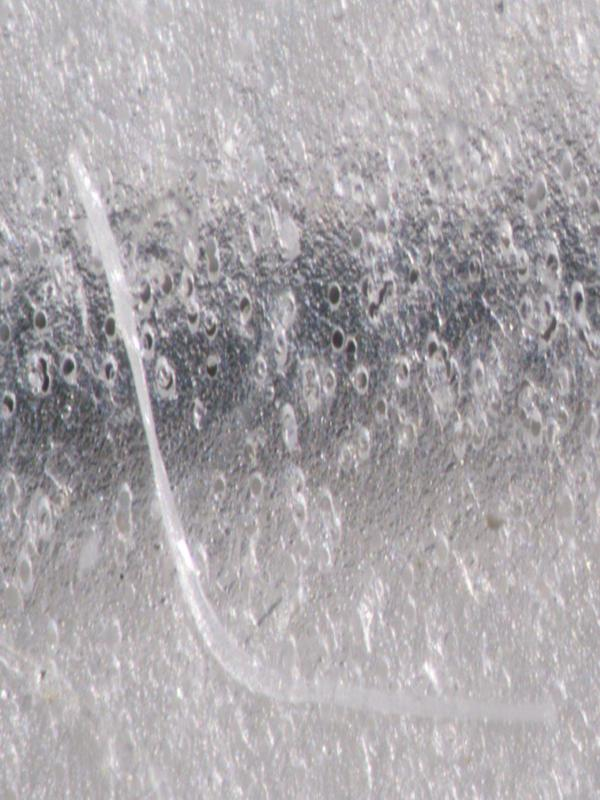microplastic: (2, 3, 598, 797)
